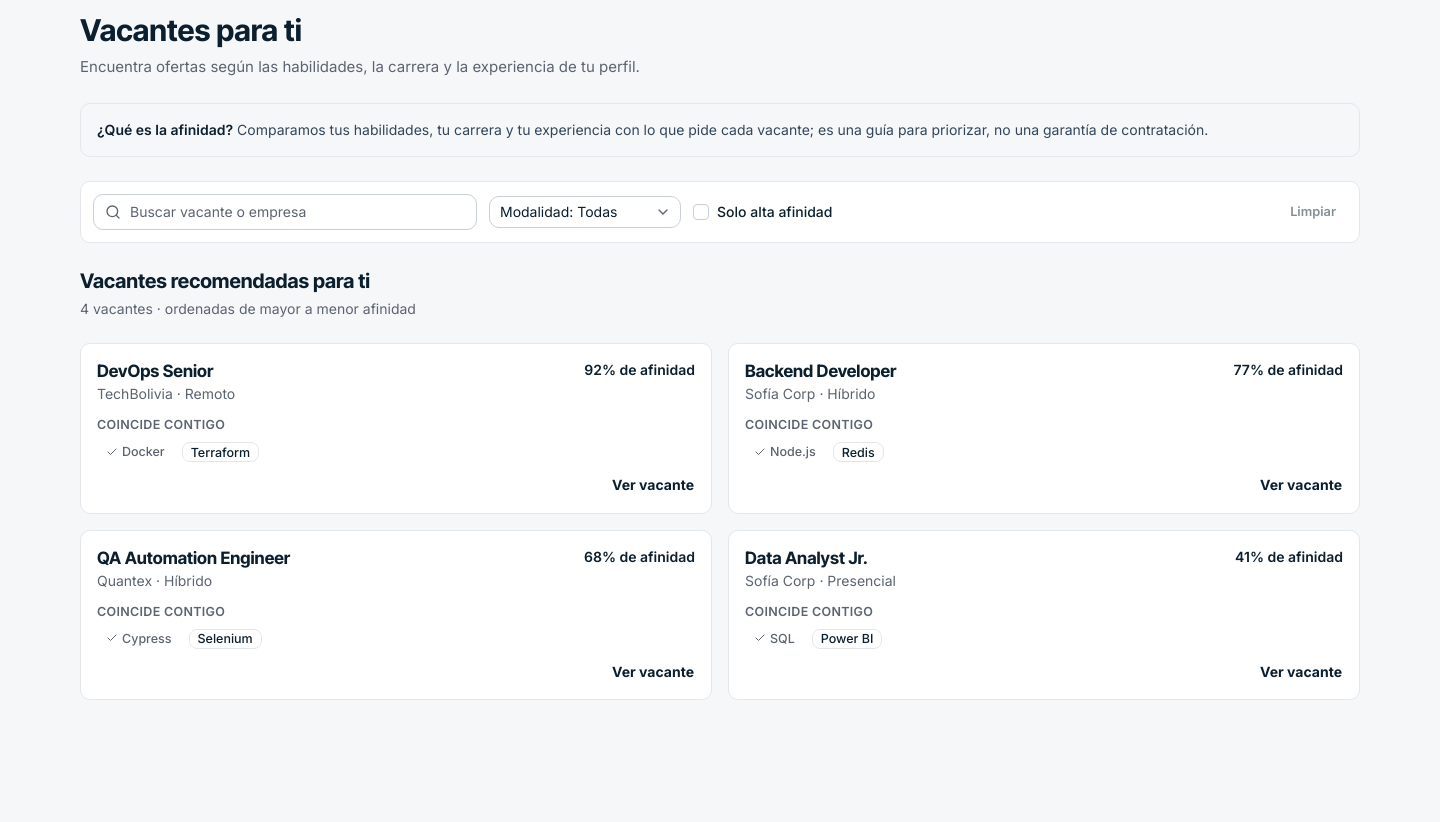
HU-06 T6.2 - Feed de vacantes ordenado por afinidad › AC-06.5: filters by search text and keeps the order
In the search field labelled "Buscar vacante o empresa": (285,212) x1=93 y1=194 x2=477 y2=230, type "sofia"
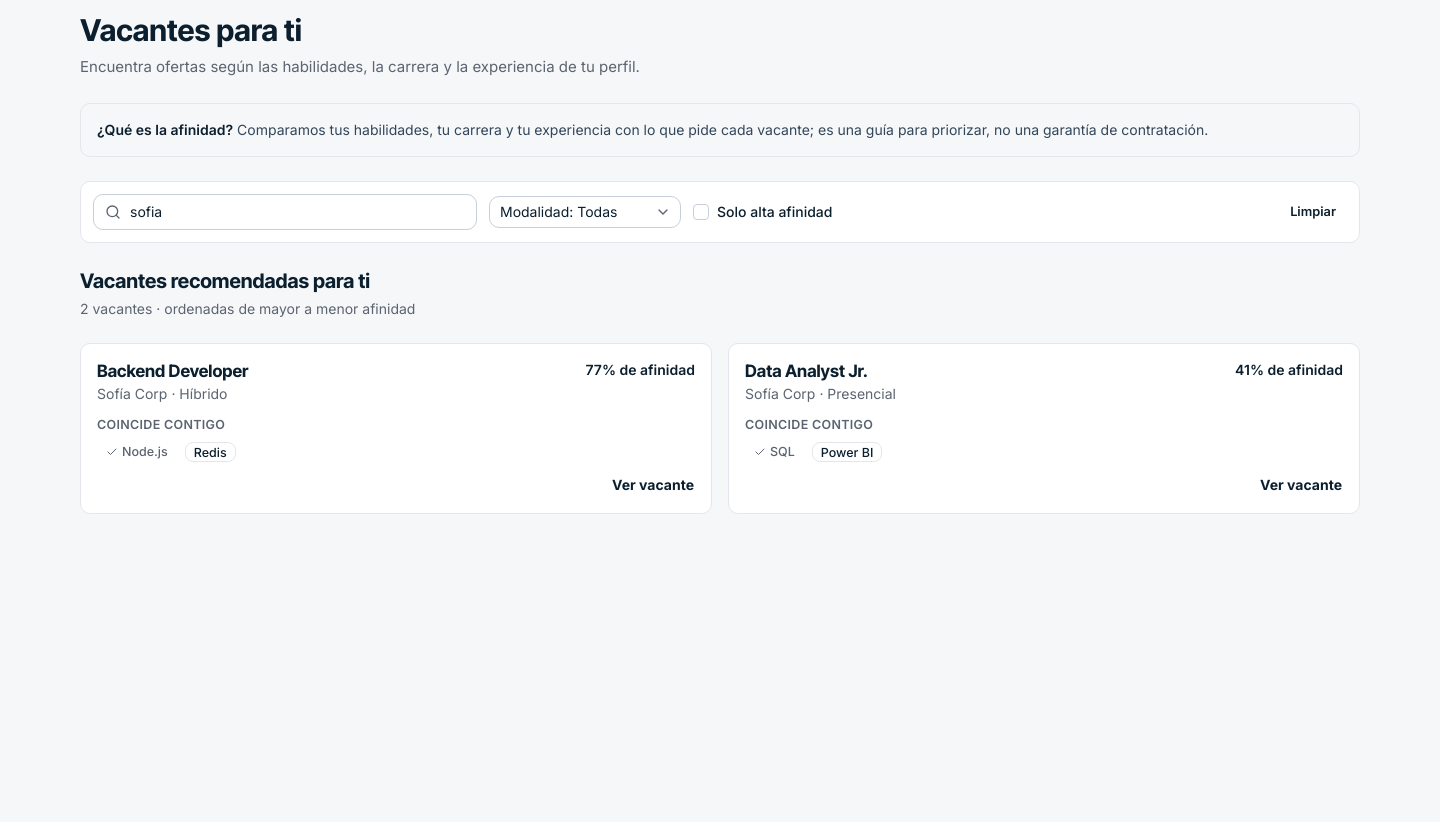
expect the text "2 vacantes · ordenadas de mayor a menor afinidad" is shown: met, box x1=80 y1=300 x2=415 y2=317
